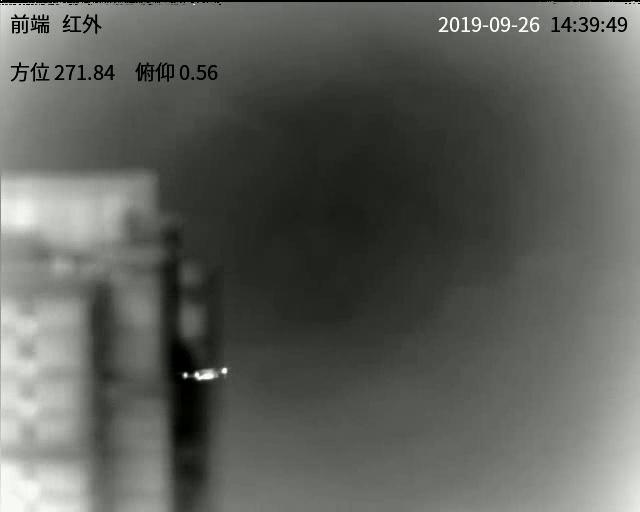DRONE: (180, 365, 230, 383)
